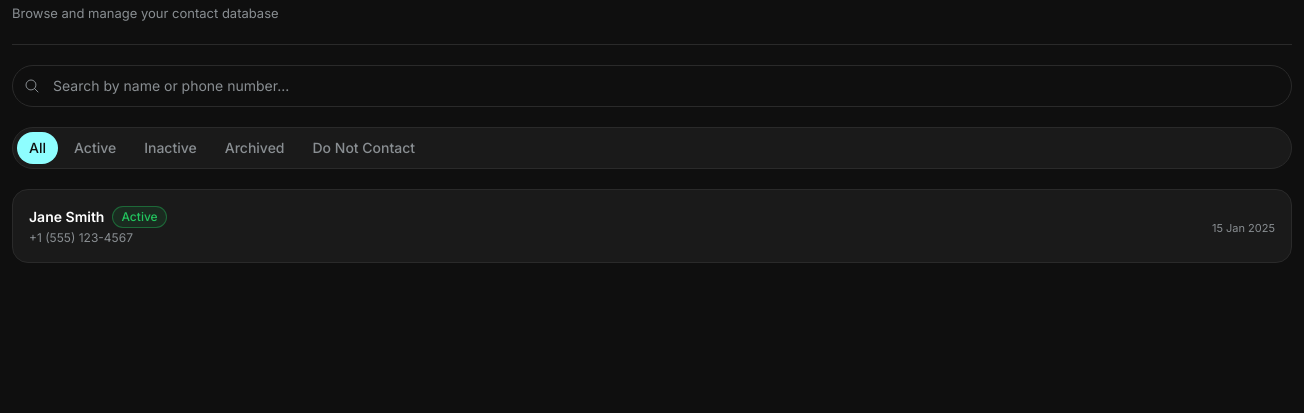
ContactsClientShell › Empty states (Req 2.4, 7.2) › displays "No contacts match your filters" when filters produce no results
The width and height of the screenshot is (1304, 413).
Type "zzzznonexistent" into the field named "Search contacts" at (652, 86), box [12,64,1292,106]
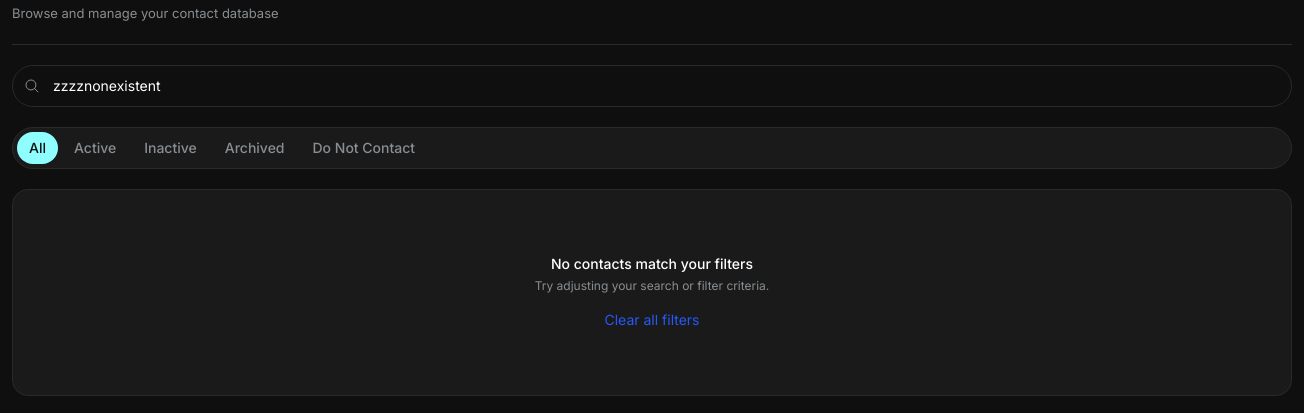
Expected: the text "No contacts match your filters" is shown, [551,254,753,272]
